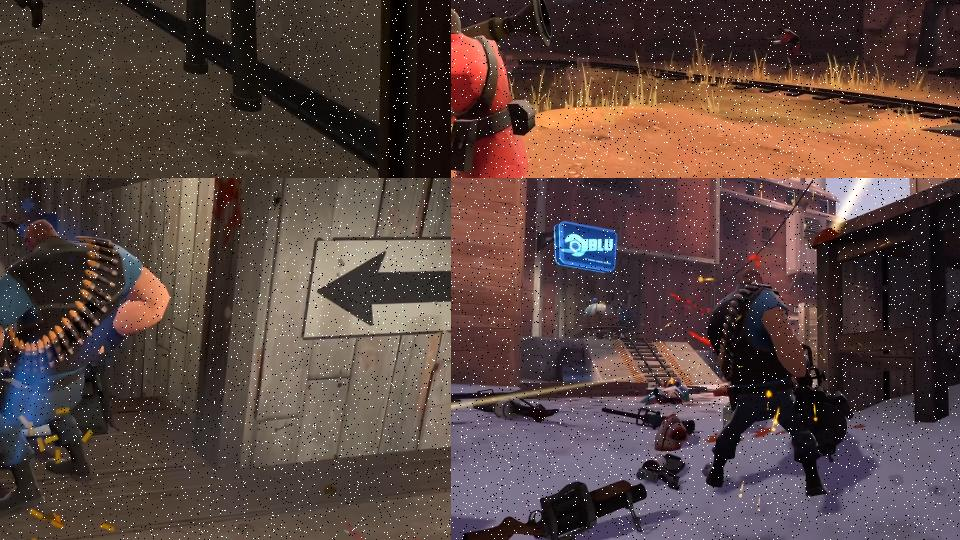Enemy: (0, 215, 173, 515), (705, 267, 856, 498), (451, 0, 554, 178), (762, 26, 814, 70), (640, 378, 689, 407)
